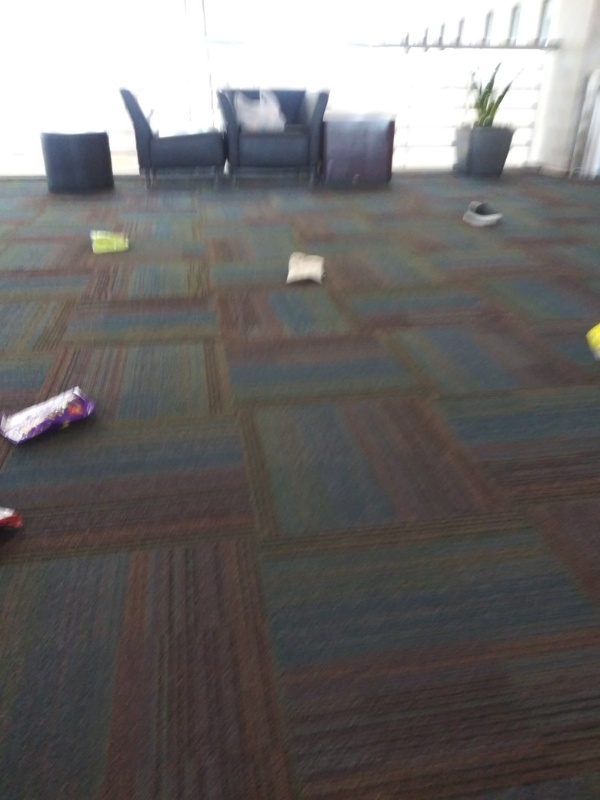bag: (1, 381, 102, 450), (280, 249, 329, 287), (85, 225, 134, 257)
